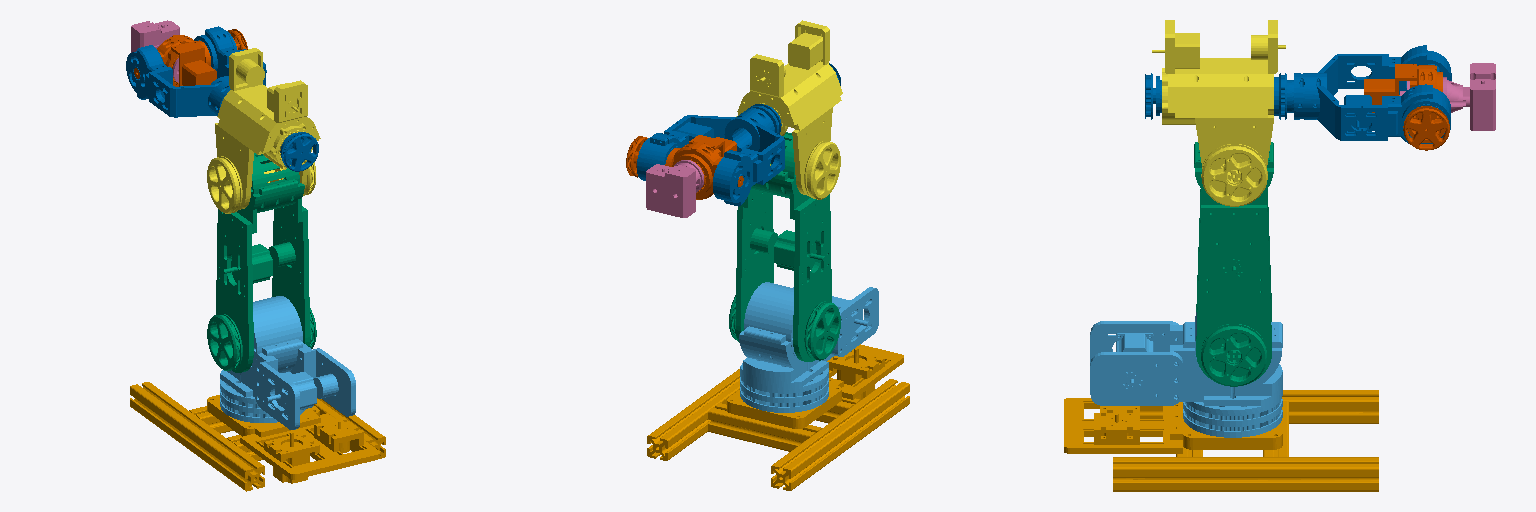
robot.urdf — robot_arm:
<?xml version="1.0" ?>
<!-- =================================================================================== -->
<!-- |    This document was autogenerated by xacro from [local-path]/maven_ws/src/robot_arm_description/urdf/urdf_assembly.xacro | -->
<!-- |    EDITING THIS FILE BY HAND IS NOT RECOMMENDED                                 | -->
<!-- =================================================================================== -->
<robot name="robot_arm">
    
    <link name="base_link">
  <inertial>
    <origin xyz="0 0 0" rpy="0 0 0"/>
    <mass value="2.200366644976027"/>
    <inertia ixx="0.02691" iyy="0.015633" izz="0.040737" ixy="-0.000363" iyz="0.001133" ixz="-0.000114"/>
  </inertial>
  <visual>
    <origin xyz="0 0 0" rpy="0 0 0"/>
    <geometry>
      <mesh filename="package://robot_arm_description/meshes/base_link.stl" scale="0.001 0.001 0.001"/>
    </geometry>
    <material name="silver"/>
  </visual>
  <collision>
    <origin xyz="0 0 0" rpy="0 0 0"/>
    <geometry>
      <mesh filename="package://robot_arm_description/meshes/base_link.stl" scale="0.001 0.001 0.001"/>
    </geometry>
  </collision>
</link>

<link name="link_1_1">
  <inertial>
    <origin xyz="0 0 0.024001498636141927" rpy="0 0 0"/>
    <mass value="2.030739431813925"/>
    <inertia ixx="0.014477" iyy="0.006803" izz="0.0131" ixy="-0.000145" iyz="0.000726" ixz="1.6e-05"/>
  </inertial>
  <visual>
    <origin xyz="0 0 -0.117341" rpy="0 0 0"/>
    <geometry>
      <mesh filename="package://robot_arm_description/meshes/link_1_1.stl" scale="0.001 0.001 0.001"/>
    </geometry>
    <material name="silver"/>
  </visual>
  <collision>
    <origin xyz="0 0 -0.117341" rpy="0 0 0"/>
    <geometry>
      <mesh filename="package://robot_arm_description/meshes/link_1_1.stl" scale="0.001 0.001 0.001"/>
    </geometry>
  </collision>
</link>

<link name="link_2_1">
  <inertial>
    <origin xyz="0 0 0.13687546860146899" rpy="0 0 0"/>
    <mass value="1.6626610036452254"/>
    <inertia ixx="0.024251" iyy="0.026584" izz="0.005086" ixy="0.0" iyz="7e-06" ixz="-2.6e-05"/>
  </inertial>
  <visual>
    <origin xyz="0 0.002 -0.199341" rpy="0 0 0"/>
    <geometry>
      <mesh filename="package://robot_arm_description/meshes/link_2_1.stl" scale="0.001 0.001 0.001"/>
    </geometry>
    <material name="silver"/>
  </visual>
  <collision>
    <origin xyz="0 0 -0.199341" rpy="0 0 0"/>
    <geometry>
      <mesh filename="package://robot_arm_description/meshes/link_2_1.stl" scale="0.001 0.001 0.001"/>
    </geometry>
  </collision>
</link>

<link name="link_3_1">
  <inertial>
    <origin xyz="0 -0.016283006892585307 0.07497937866412202" rpy="0 0 0"/>
    <mass value="9.121346283290384"/>
    <inertia ixx="0.063998" iyy="0.062586" izz="0.038355" ixy="2.5e-05" iyz="0.007821" ixz="-0.000107"/>
  </inertial>
  <visual>
    <origin xyz="0 0.002793 -0.498507" rpy="0 0 0"/>
    <geometry>
      <mesh filename="package://robot_arm_description/meshes/link_3_1.stl" scale="0.001 0.001 0.001"/>
    </geometry>
    <material name="silver"/>
  </visual>
  <collision>
    <origin xyz="0 0.002793 -0.498507" rpy="0 0 0"/>
    <geometry>
      <mesh filename="package://robot_arm_description/meshes/link_3_1.stl" scale="0.001 0.001 0.001"/>
    </geometry>
  </collision>
</link>

<link name="link_4_1">
  <inertial>
    <origin xyz="0.005513953778460314 0.2625680653929481 4.057984306360396e-06" rpy="0 0 0"/>
    <mass value="7.5787166188185005"/>
    <inertia ixx="0.126085" iyy="0.027107" izz="0.147683" ixy="-0.000913" iyz="-1e-06" ixz="-2e-06"/>
  </inertial>
  <visual>
    <origin xyz="0.0 0.0 -0.596394" rpy="0 0 0"/>
    <geometry>
      <mesh filename="package://robot_arm_description/meshes/link_4_1.stl" scale="0.001 0.001 0.001"/>
    </geometry>
    <material name="silver"/>
  </visual>
  <collision>
    <origin xyz="0.002859 0.0 -0.596394" rpy="0 0 0"/>
    <geometry>
      <mesh filename="package://robot_arm_description/meshes/link_4_1.stl" scale="0.001 0.001 0.001"/>
    </geometry>
  </collision>
</link>

<link name="link_5_1">
  <inertial>
    <origin xyz="-0.07848672877351807 -0.01878037329851351 1.0025048180262175e-05" rpy="0 0 0"/>
    <mass value="3.0872435381050845"/>
    <inertia ixx="0.004619" iyy="0.008205" izz="0.009933" ixy="-0.001102" iyz="2e-06" ixz="0.0"/>
  </inertial>
  <visual>
    <origin xyz="0.0 -0.289485 -0.596394" rpy="0 0 0"/>
    <geometry>
      <mesh filename="package://robot_arm_description/meshes/link_5_1.stl" scale="0.001 0.001 0.001"/>
    </geometry>
    <material name="silver"/>
  </visual>
  <collision>
    <origin xyz="0.0 -0.289485 -0.596394" rpy="0 0 0"/>
    <geometry>
      <mesh filename="package://robot_arm_description/meshes/link_5_1.stl" scale="0.001 0.001 0.001"/>
    </geometry>
  </collision>
</link>

<link name="link_6_1">
  <inertial>
    <origin xyz="-0.0006916944165798809 0.03632808398557291 -0.0013926003723436775" rpy="0 0 0"/>
    <mass value="2.637875841155386"/>
    <inertia ixx="0.004764" iyy="0.001978" izz="0.004912" ixy="4.3e-05" iyz="8.7e-05" ixz="6.9e-05"/>
  </inertial>
  <visual>
    <origin xyz="0.002859 -0.314485 -0.596394" rpy="0 0 0"/>
    <geometry>
      <mesh filename="package://robot_arm_description/meshes/link_6_1.stl" scale="0.001 0.001 0.001"/>
    </geometry>
    <material name="silver"/>
  </visual>
  <collision>
    <origin xyz="0.002859 -0.314485 -0.596394" rpy="0 0 0"/>
    <geometry>
      <mesh filename="package://robot_arm_description/meshes/link_6_1.stl" scale="0.001 0.001 0.001"/>
    </geometry>
  </collision>
</link>


<joint name="joint_1" type="revolute">
  <origin xyz="0 0 0.117341" rpy="0 0 0"/>
  <parent link="base_link"/>
  <child link="link_1_1"/>
  <axis xyz="-0.0 -0.0 1.0"/>
  <limit upper="2.443461" lower="-2.443461" effort="100" velocity="100"/>
</joint>

<joint name="joint_2" type="revolute">
  <origin xyz="0 0.0 0.082" rpy="0 0 0"/>
  <parent link="link_1_1"/>
  <child link="link_2_1"/>
  <axis xyz="-1.0 -0.0 -0.0"/>
  <limit upper="2.443461" lower="-2.443461" effort="100" velocity="100"/>
</joint>

<joint name="joint_3" type="revolute">
  <origin xyz="0.0 0 0.299166" rpy="0 0 0"/>
  <parent link="link_2_1"/>
  <child link="link_3_1"/>
  <axis xyz="1.0 0.0 0.0"/>
  <limit upper="2.443461" lower="-2.443461" effort="100" velocity="100"/>
</joint>

<joint name="joint_4" type="revolute">
  <origin xyz="0 0.0 0.097887" rpy="0 0 0"/>
  <parent link="link_3_1"/>
  <child link="link_4_1"/>
  <axis xyz="-0.0 1.0 -0.0"/>
  <limit upper="2.443461" lower="-2.443461" effort="100" velocity="100"/>
</joint>

<joint name="joint_5" type="revolute">
  <origin xyz="0.0 0.2895 0.0" rpy="0 0 0"/>
  <parent link="link_4_1"/>
  <child link="link_5_1"/>
  <axis xyz="1.0 0.0 0.0"/>
  <limit upper="2.443461" lower="-2.443461" effort="100" velocity="100"/>
</joint>

<joint name="joint_6" type="revolute">
  <origin xyz="0.0 0.025 0.0" rpy="0 0 0"/>
  <parent link="link_5_1"/>
  <child link="link_6_1"/>
  <axis xyz="-0.0 1.0 0.0"/>
  <limit upper="2.443461" lower="-2.443461" effort="100" velocity="100"/>
</joint>

</robot>

--- Facts derived from the render (not from the file) ---
The picture shows the robot from 3 angles, left to right: view 1: azimuth 30°, elevation 25°; view 2: azimuth 150°, elevation 25°; view 3: azimuth 270°, elevation 25°; orthographic projection.
Robot: robot_arm — 7 links, 6 joints (6 revolute); root link base_link; default pose: all joints at 0.
Visible links, largest first — view 1: base_link, link_2_1, link_1_1, link_3_1, link_4_1, link_5_1, link_6_1; view 2: base_link, link_2_1, link_1_1, link_3_1, link_4_1, link_6_1, link_5_1; view 3: base_link, link_3_1, link_1_1, link_2_1, link_4_1, link_5_1, link_6_1.
Boxes of the visible links, x1,y1,x2,y2 form: base_link: (130, 382, 385, 491); link_2_1: (207, 153, 316, 372); link_1_1: (220, 296, 355, 429); link_3_1: (207, 48, 320, 213); link_4_1: (126, 26, 318, 171); link_5_1: (134, 29, 247, 86); link_6_1: (131, 20, 179, 82); base_link: (647, 344, 909, 490); link_2_1: (729, 132, 840, 361); link_1_1: (739, 282, 878, 412); link_3_1: (736, 20, 842, 199); link_4_1: (637, 63, 840, 206); link_6_1: (646, 160, 703, 217); link_5_1: (626, 135, 743, 199); base_link: (1064, 390, 1378, 491); link_3_1: (1152, 20, 1285, 206); link_1_1: (1090, 312, 1282, 437); link_2_1: (1194, 142, 1273, 386); link_4_1: (1145, 45, 1451, 143); link_5_1: (1364, 64, 1449, 150); link_6_1: (1400, 63, 1495, 130).
Size in the robot's own frame: 0.28 by 0.6521 by 0.7081 metres.
Meshes: 7 distinct files referenced, 7 mesh visuals loaded (7 binary STL).